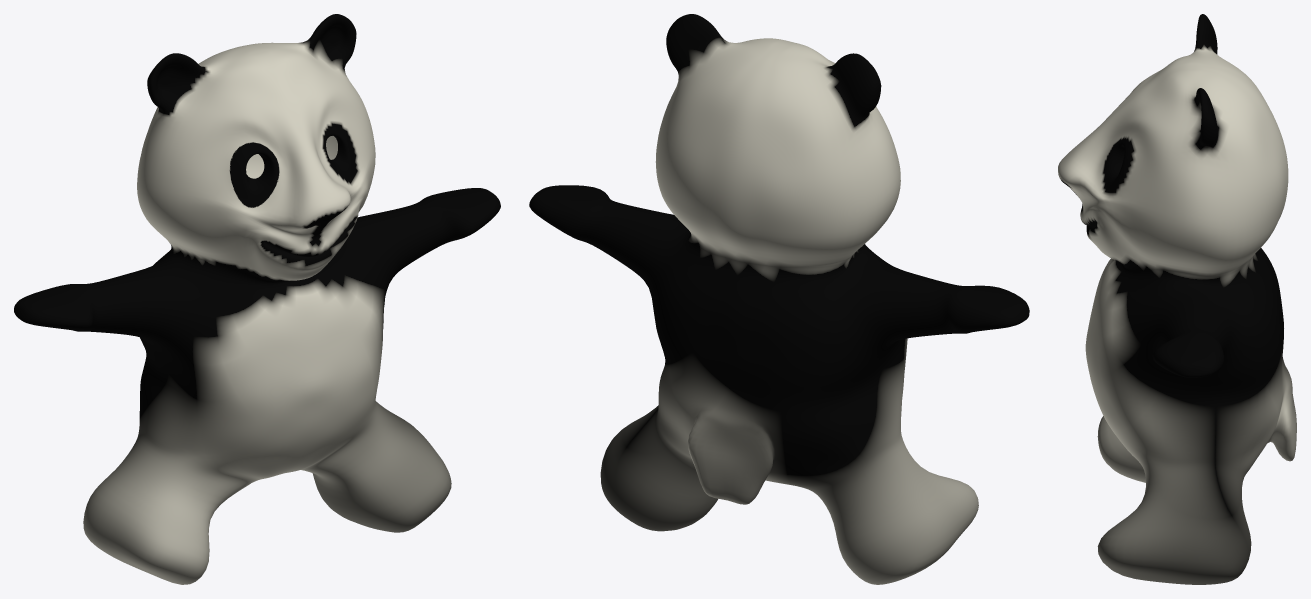
The model's file is panda_023.obj.
The picture shows the model from 3 angles, left to right: view 1: azimuth 30°, elevation 25°; view 2: azimuth 150°, elevation 25°; view 3: azimuth 270°, elevation 25°; orthographic projection. The views are drawn at different scales.
Parts seen in each view (by area): view 1: BearBody_Sphere; view 2: BearBody_Sphere; view 3: BearBody_Sphere.
Boxes of the visible parts, x1,y1,x2,y2 form: BearBody_Sphere: [14, 14, 500, 584]; BearBody_Sphere: [529, 14, 1029, 584]; BearBody_Sphere: [1058, 14, 1296, 584].
Bounding box in the file's own units: 5.37 × 5.41 × 2.44.
Materials: 1 (1 with a texture image).
